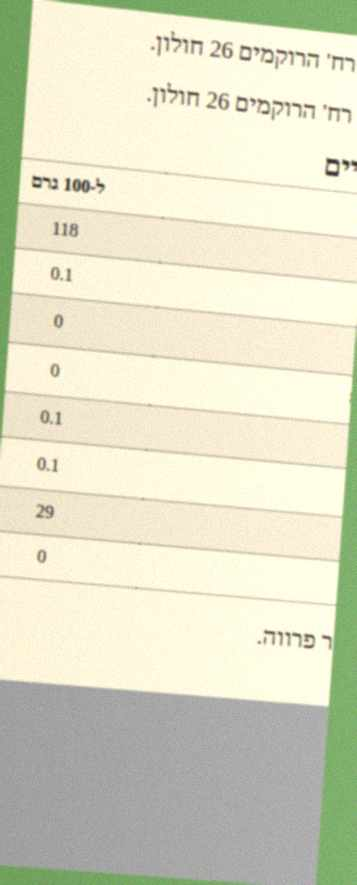carbs: (37, 404, 66, 433)
energy: (48, 216, 82, 245)
fat: (47, 261, 77, 290)
protein: (32, 499, 57, 527)
